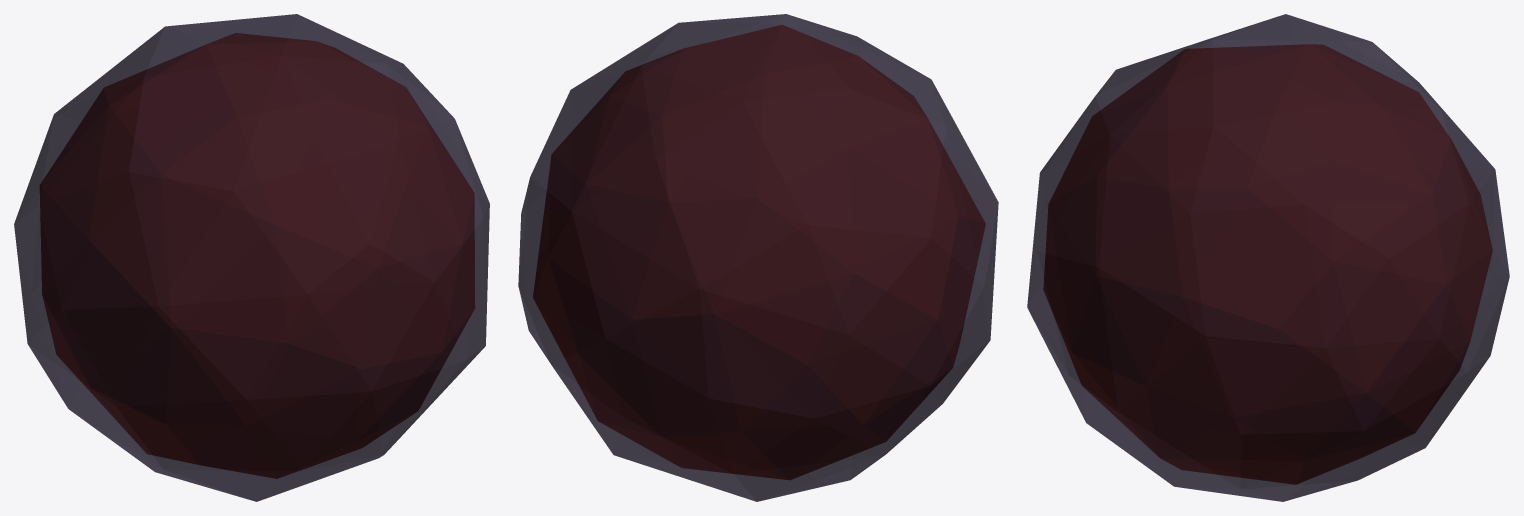
The model's file is wandering_planet4.fbx.
3 views of the same model, side by side, from view 1: azimuth 30°, elevation 25°; view 2: azimuth 150°, elevation 25°; view 3: azimuth 270°, elevation 25° (orthographic).
Visible parts, largest first — view 1: wandering_planet4; view 2: wandering_planet4; view 3: wandering_planet4.
Boxes of the visible parts, box(x1,y1,x2,y2) form: wandering_planet4: box(14, 14, 489, 501); wandering_planet4: box(518, 14, 998, 501); wandering_planet4: box(1027, 14, 1509, 501).
Size of the model in its own units: 216 by 218 by 217.
